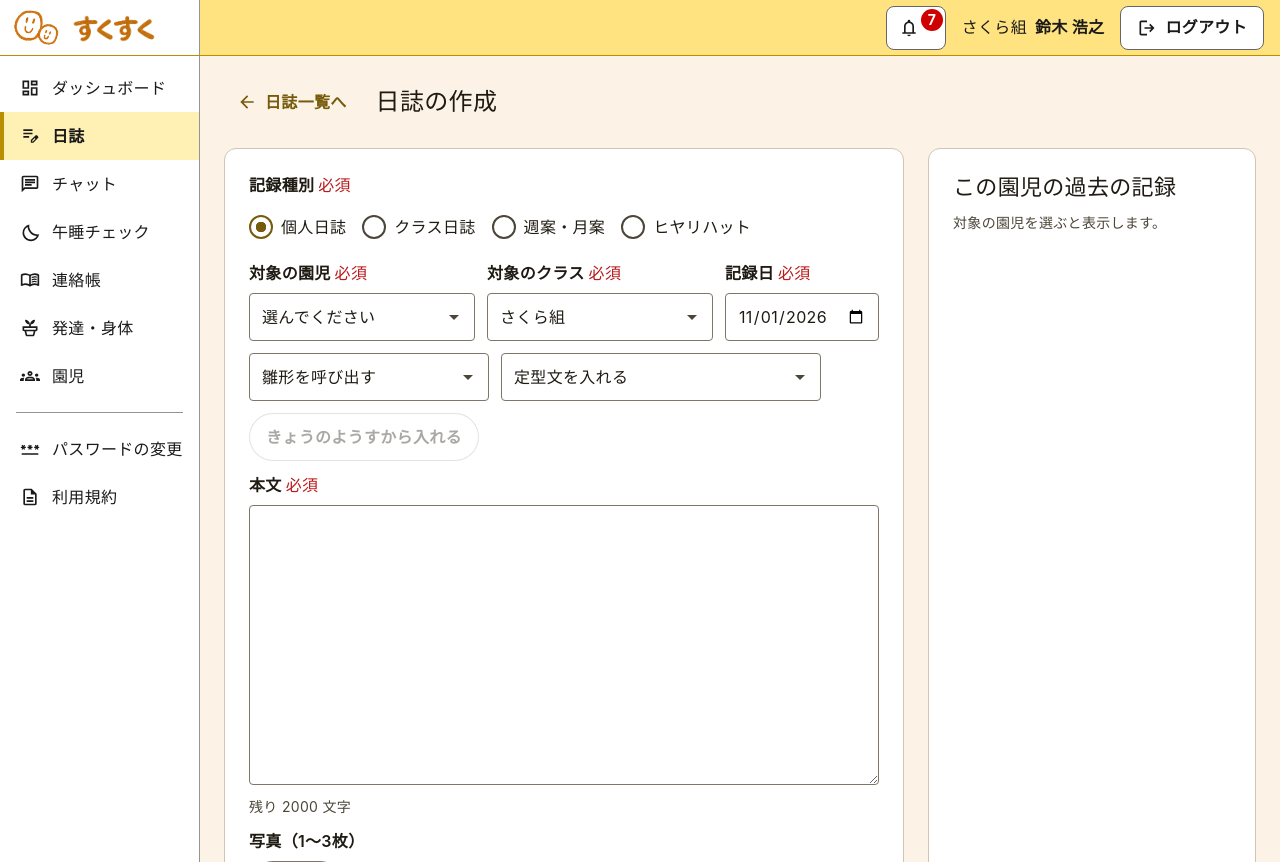
Test: 保存していない内容の確かめ（#175 の 3 とコメント） › 定型文を選んだだけでも、一覧へ戻る前に確かめる
Select "西田 太郎" in the dropdown labelled "対象の園児" at coordinates (362, 317), box [249,293,475,341]
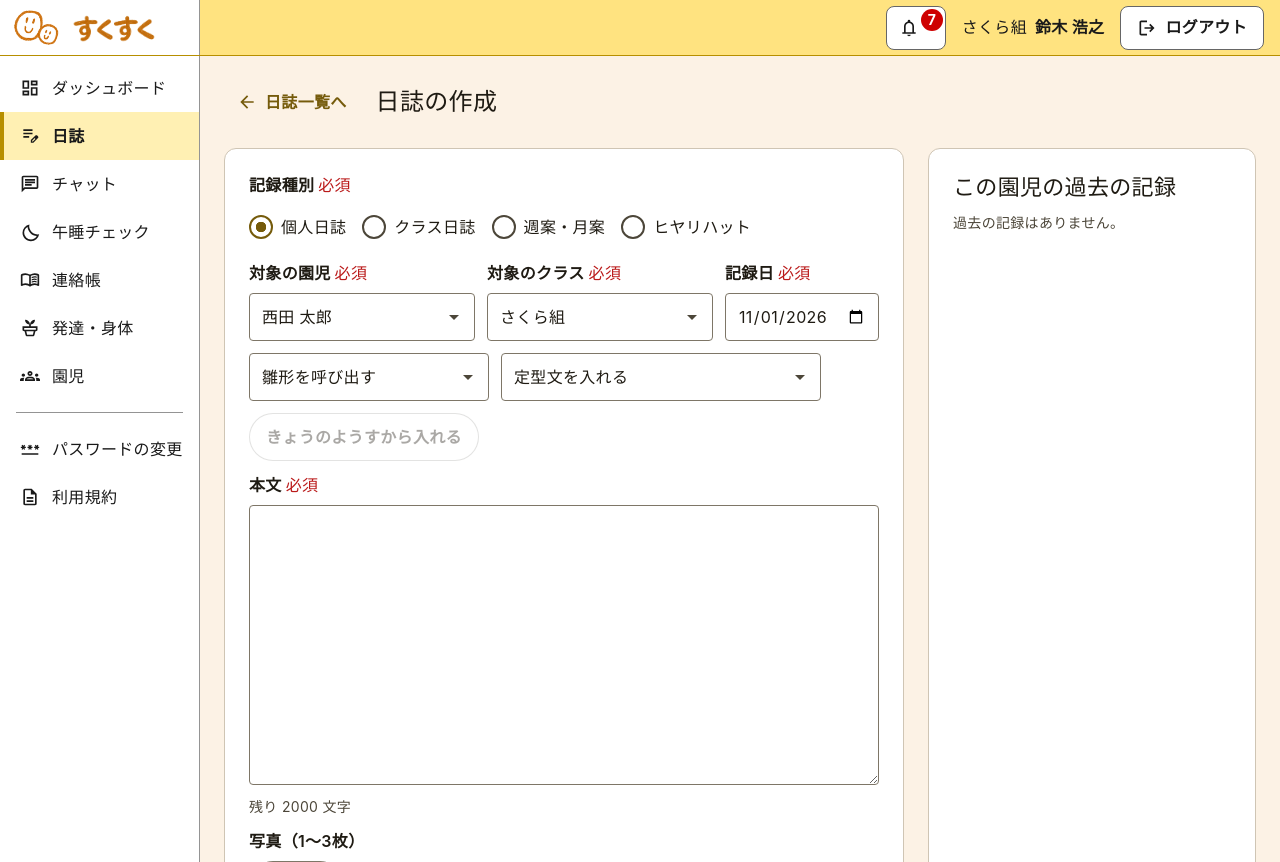
Select "よく食べ、おかわりをしていました。" in the dropdown named "定型文を入れる" at coordinates (661, 377), box [501,353,821,401]
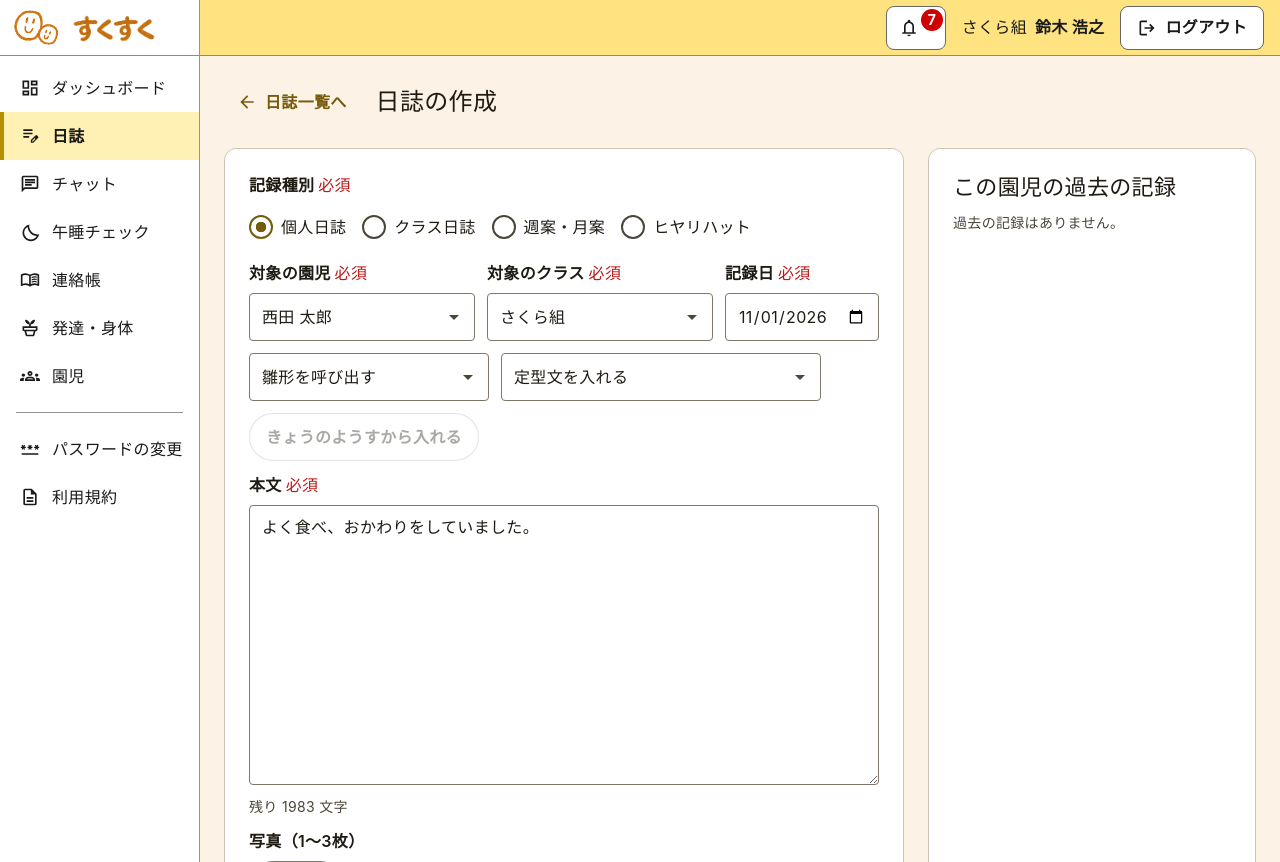
Click the link "日誌一覧へ".
click(292, 102)  # box [237,92,347,112]
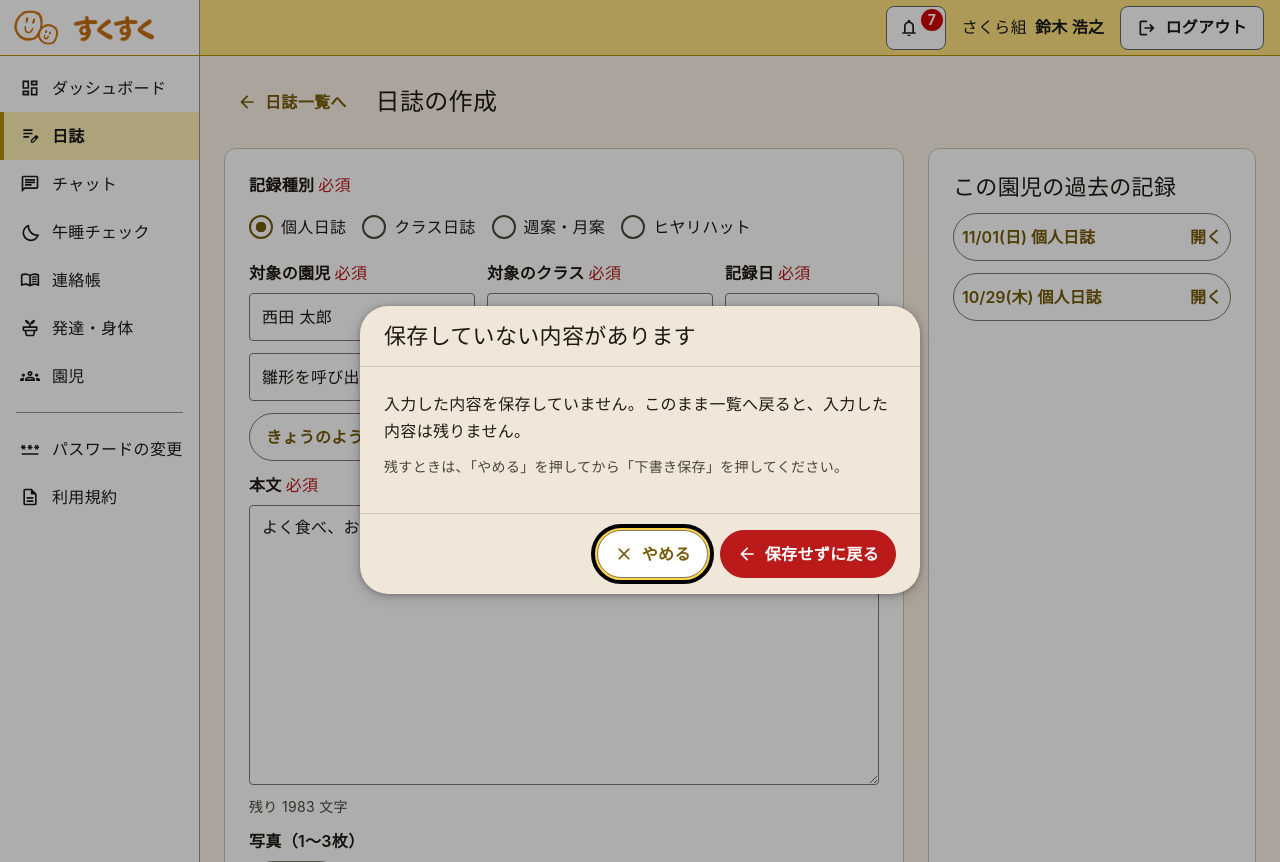
Check: the dialog "保存していない内容があります" is shown, box [360,306,920,594]
